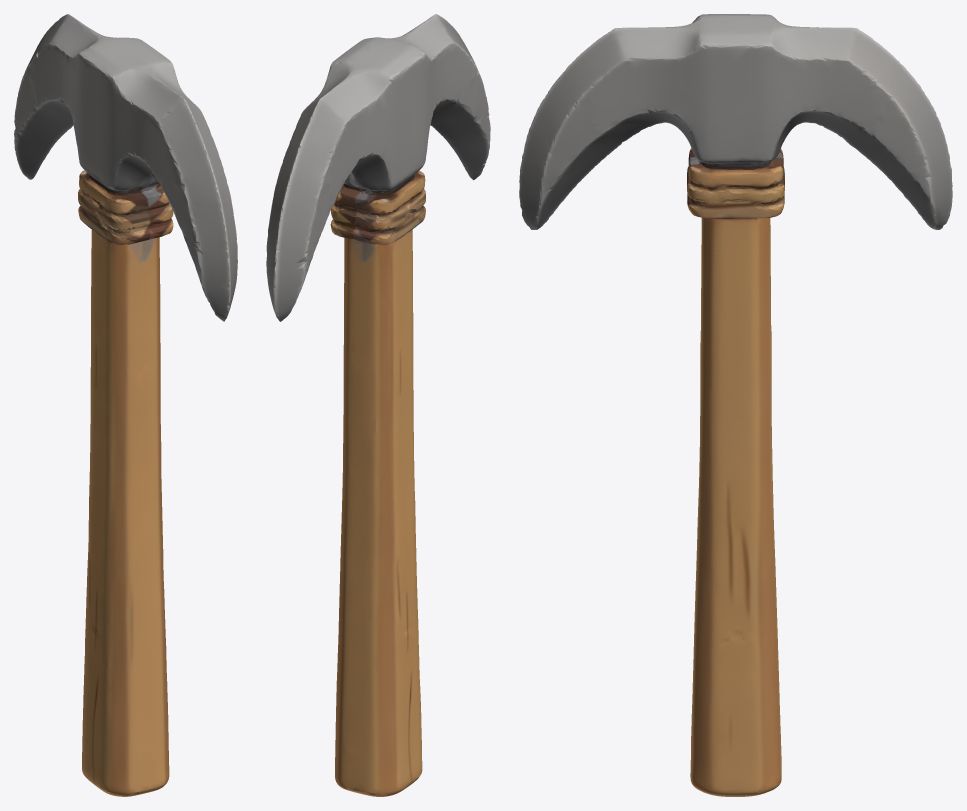
The model's file is wood_pickaxe.glb.
3 views of the same model, side by side, from view 1: azimuth 30°, elevation 25°; view 2: azimuth 150°, elevation 25°; view 3: azimuth 270°, elevation 25° (orthographic). The views are drawn at different scales.
Parts seen in each view (by area): view 1: wood_pickaxe; view 2: wood_pickaxe; view 3: wood_pickaxe.
Part boxes in pixels (x1,y1,x2,y2): wood_pickaxe: [14, 14, 237, 796]; wood_pickaxe: [266, 14, 490, 796]; wood_pickaxe: [519, 14, 952, 796].
Bounding box in the file's own units: 0.0928 × 1 × 0.5157.
Materials: 1 (1 with a texture image).
